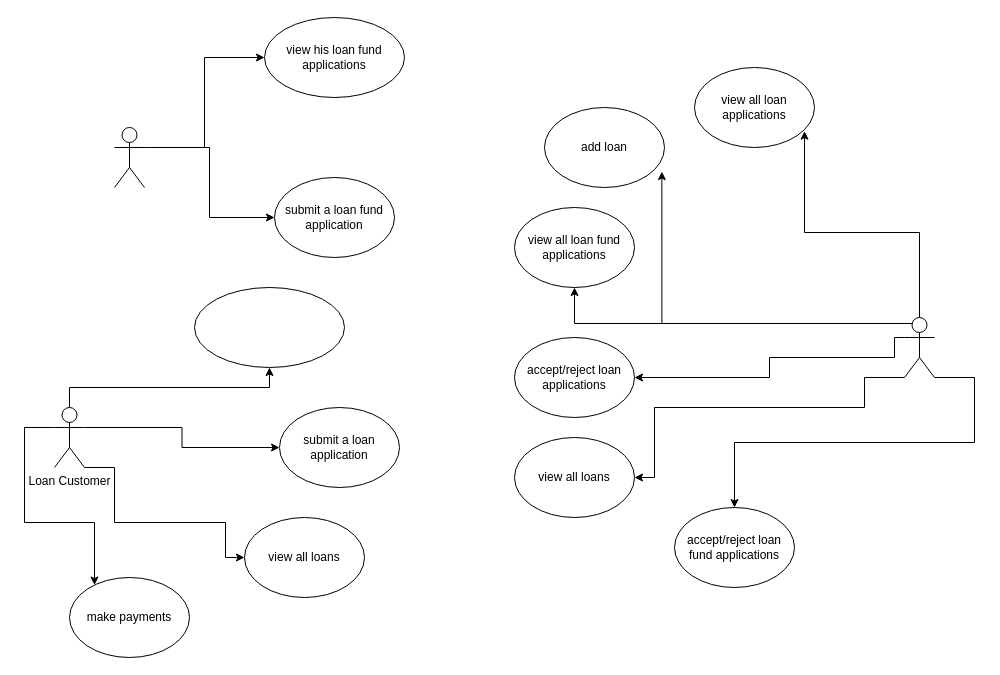
This 1000x675 diagram has some shape labels left out. Each missing label, with the box of its shape:
Bank Personnel: (904, 316, 934, 378)
Loan Provider: (114, 126, 144, 188)
view his loan applications: (194, 286, 344, 368)
